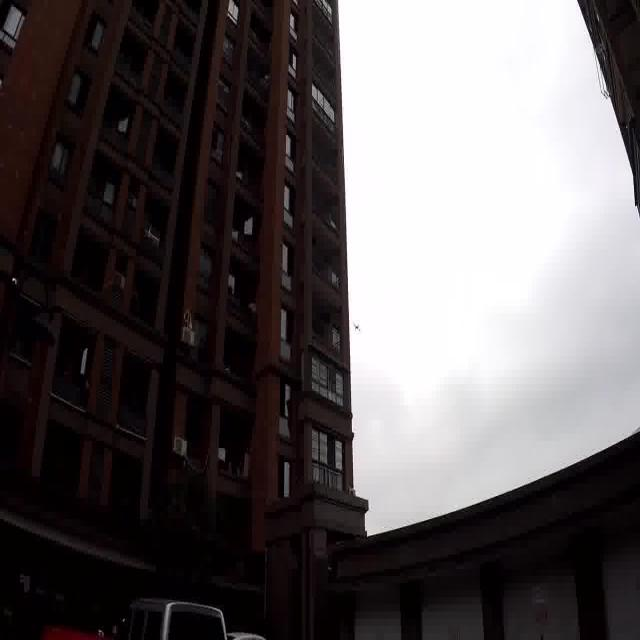drone: (352, 318, 362, 335)
